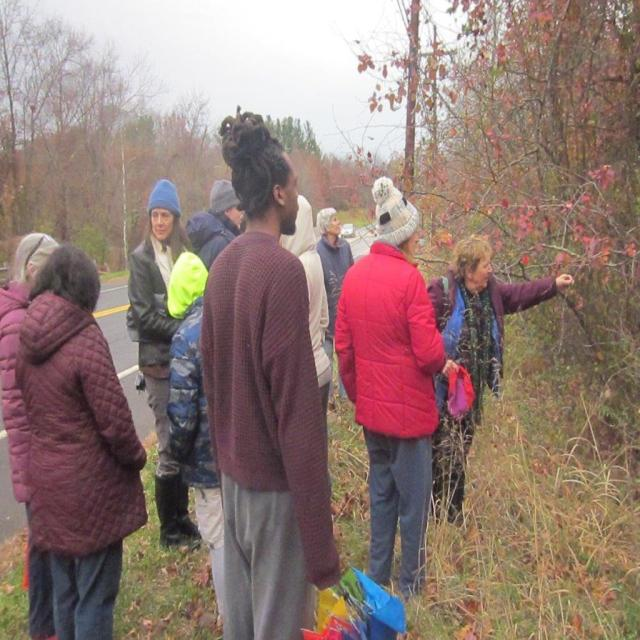body: (198, 104, 346, 639), (11, 239, 152, 639), (333, 174, 447, 607), (422, 232, 577, 530), (125, 177, 204, 551), (164, 249, 227, 634), (0, 230, 59, 639), (278, 193, 332, 437), (312, 206, 356, 414), (184, 177, 247, 275), (236, 211, 253, 239)
